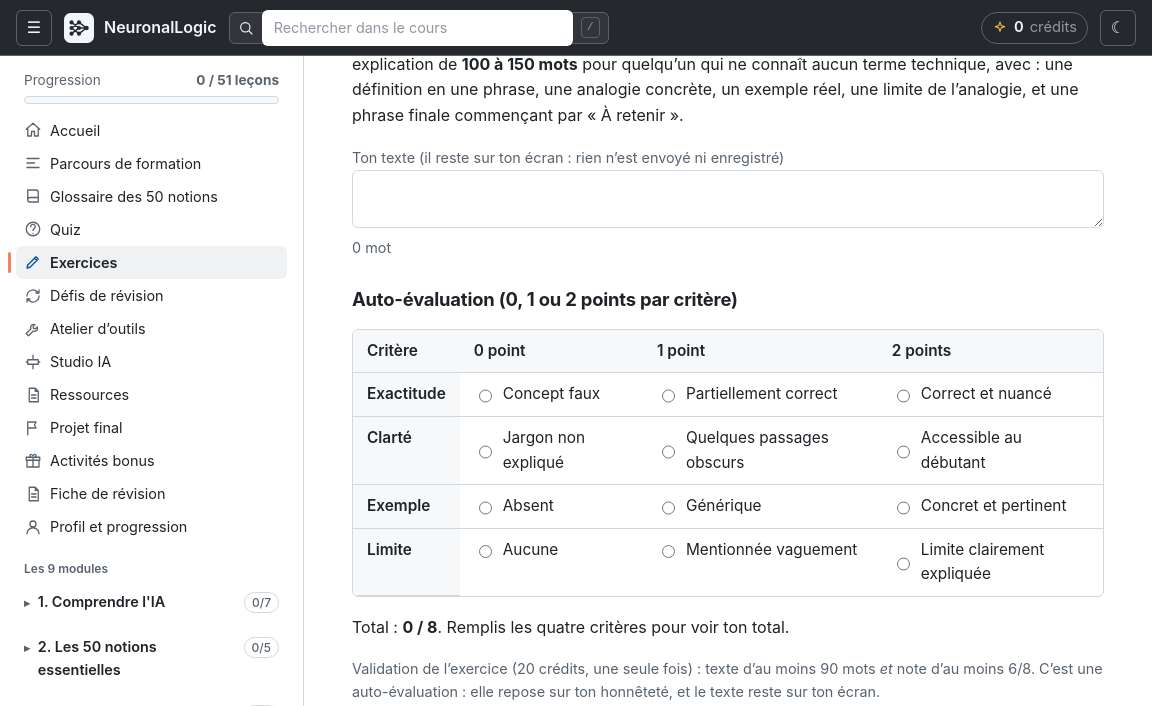
Test: exercices et projet › calcule le total de la grille d’auto-évaluation et conclut selon le seuil de 6/8
(page scrolled)
Click the radio button labelled "Correct et nuancé" at {"x": 903, "y": 396}, box [897,386,910,407]
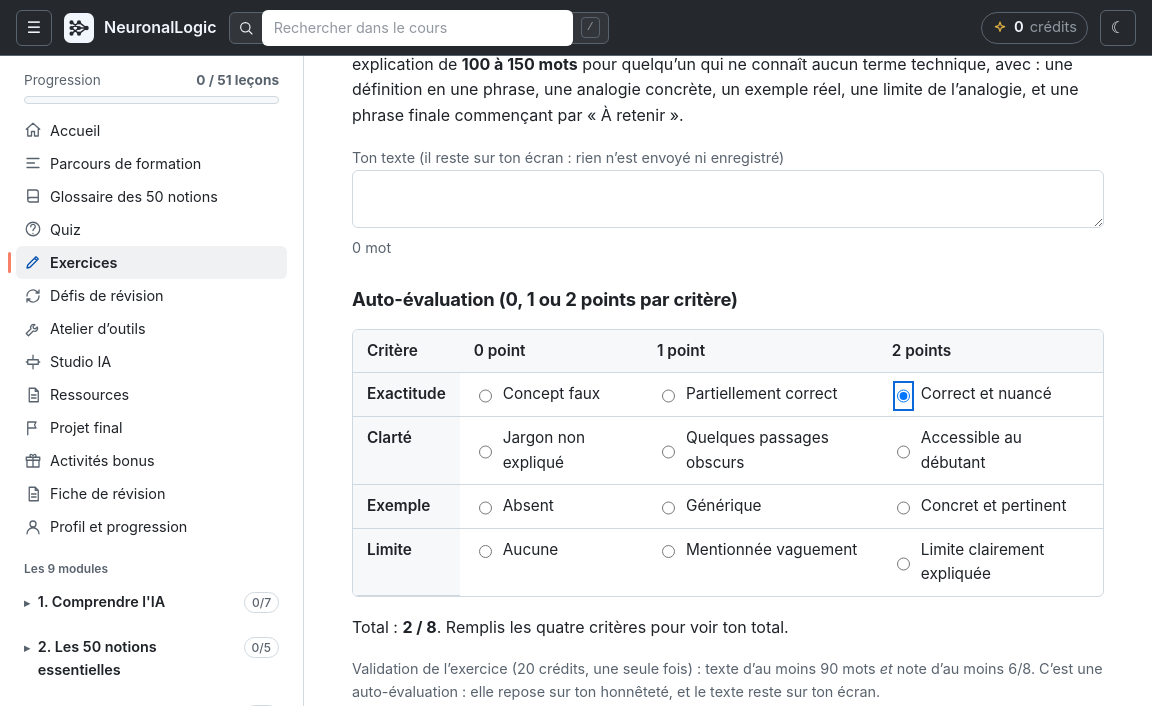
Click the radio button named "rub-clarte" at {"x": 903, "y": 452}, box [897,429,910,475]
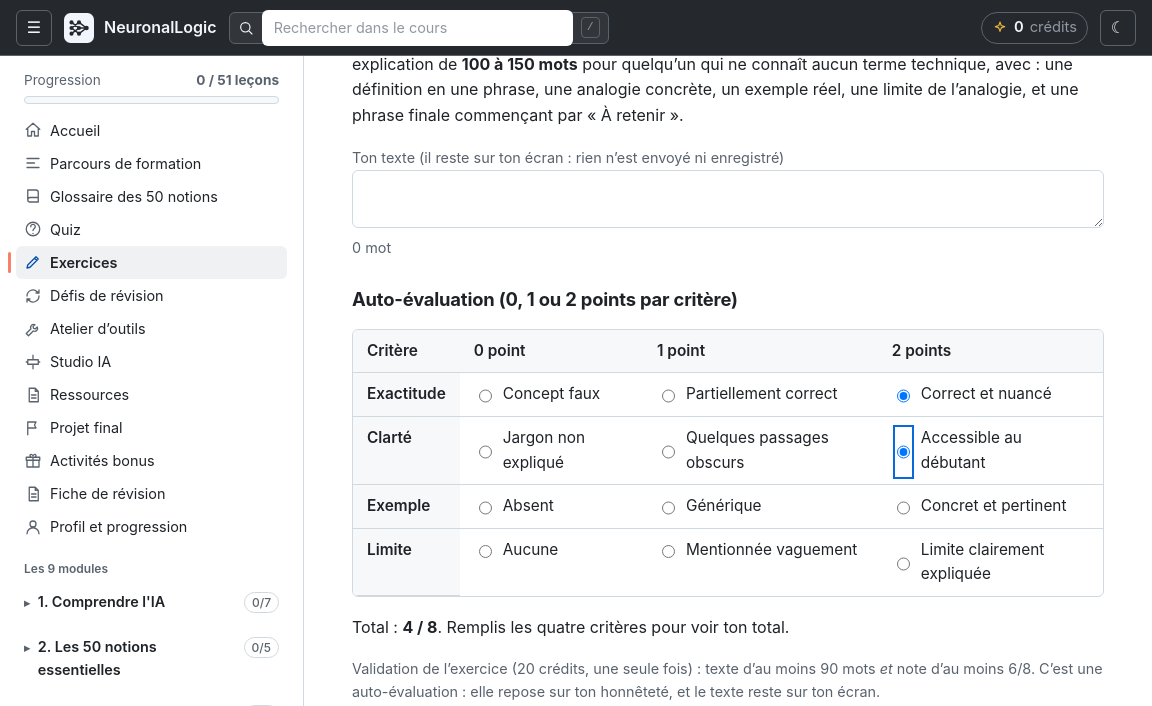
Click the radio button named "rub-exemple" at {"x": 903, "y": 508}, box [897,497,910,519]
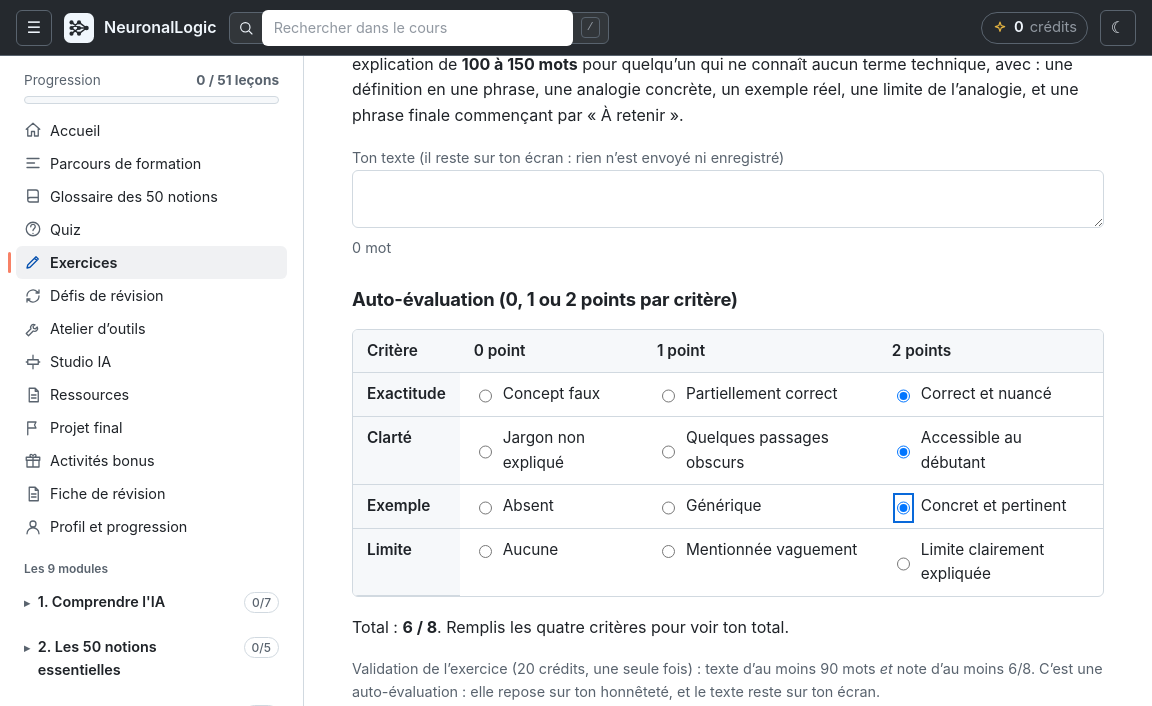
Click the radio button labelled "Limite clairement expliquée" at {"x": 903, "y": 564}, box [897,541,910,587]
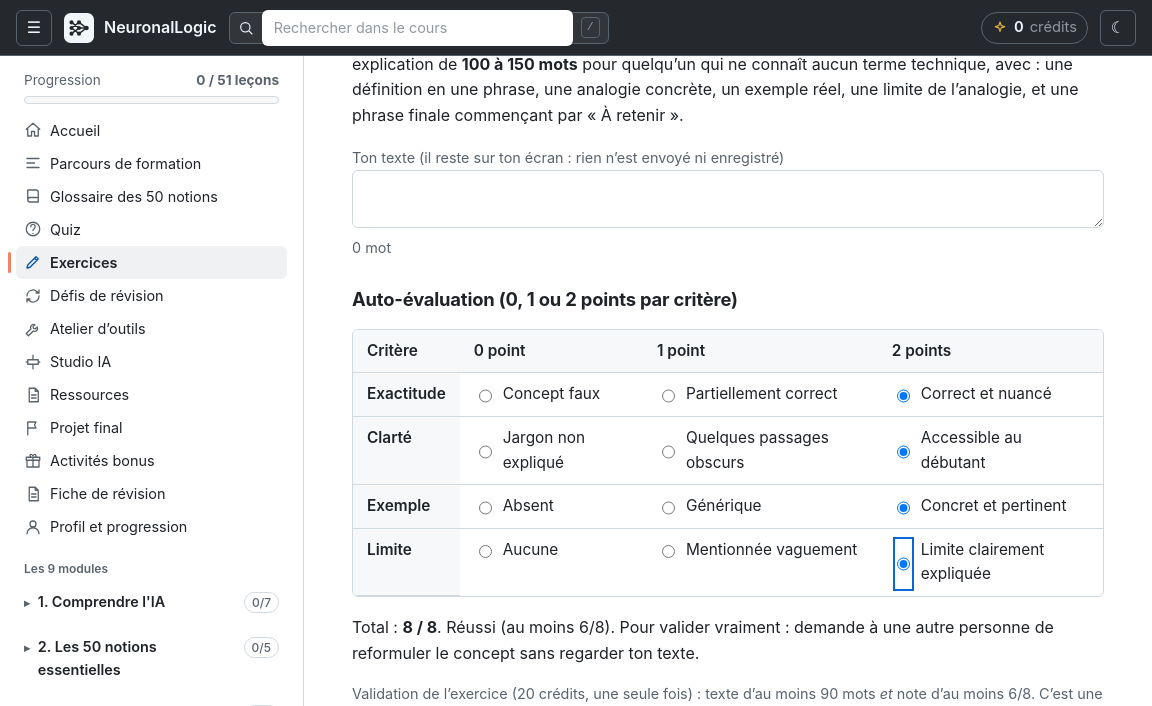
Result: the text "8 / 8" is shown at [402,617,437,637]
Result: the text "Réussi" is shown at [352,617,1054,662]
Click the radio button named "rub-clarte" at {"x": 485, "y": 452}, box [479,429,492,475]
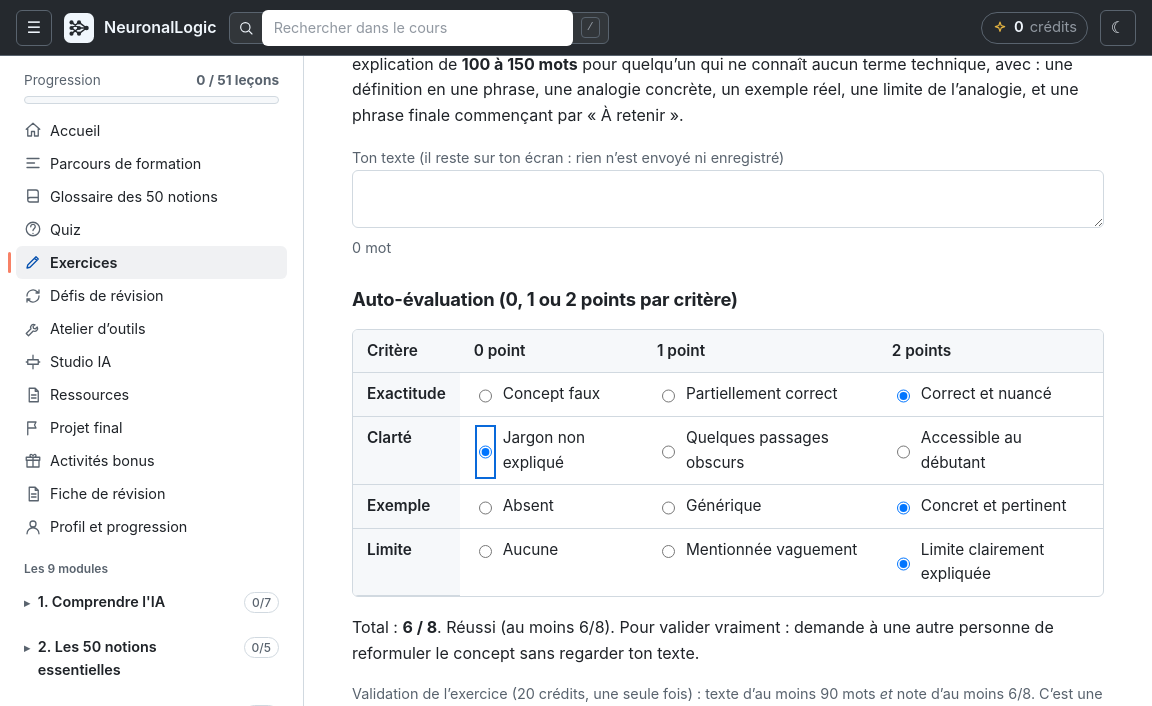
Click the radio button named "rub-exemple" at {"x": 485, "y": 508}, box [479,497,492,519]
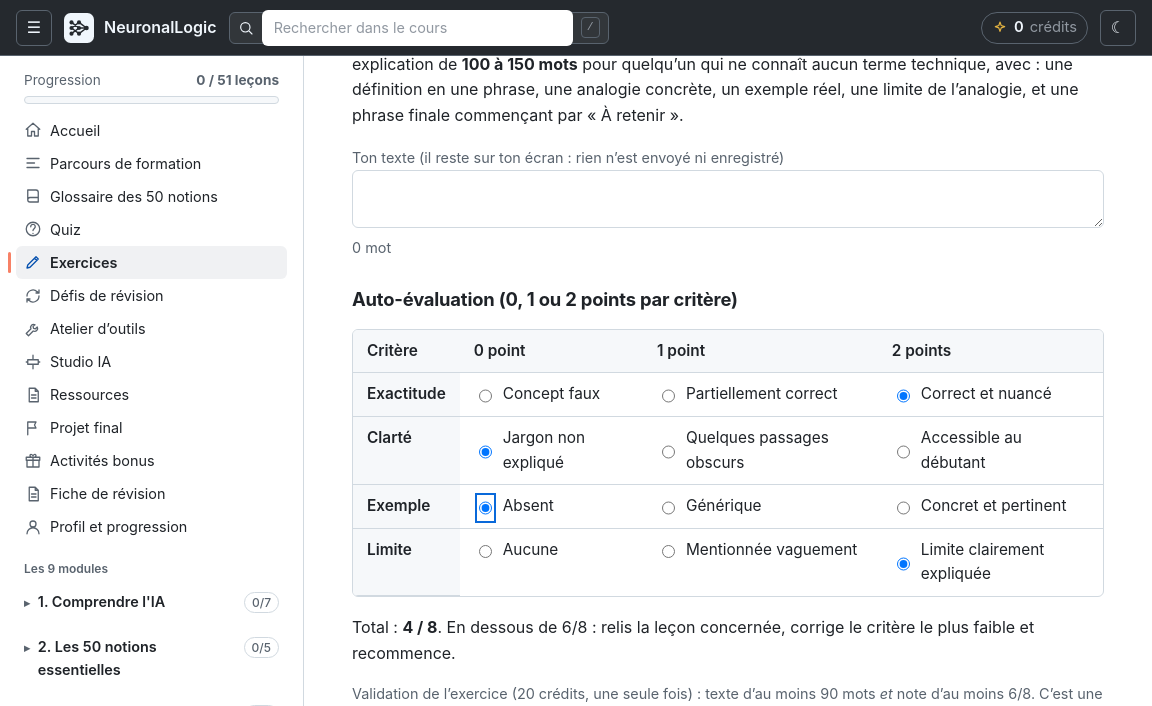
Result: the text "4 / 8" is shown at [402,617,438,637]
Result: the text "En dessous de 6/8" is shown at [352,617,1034,662]
